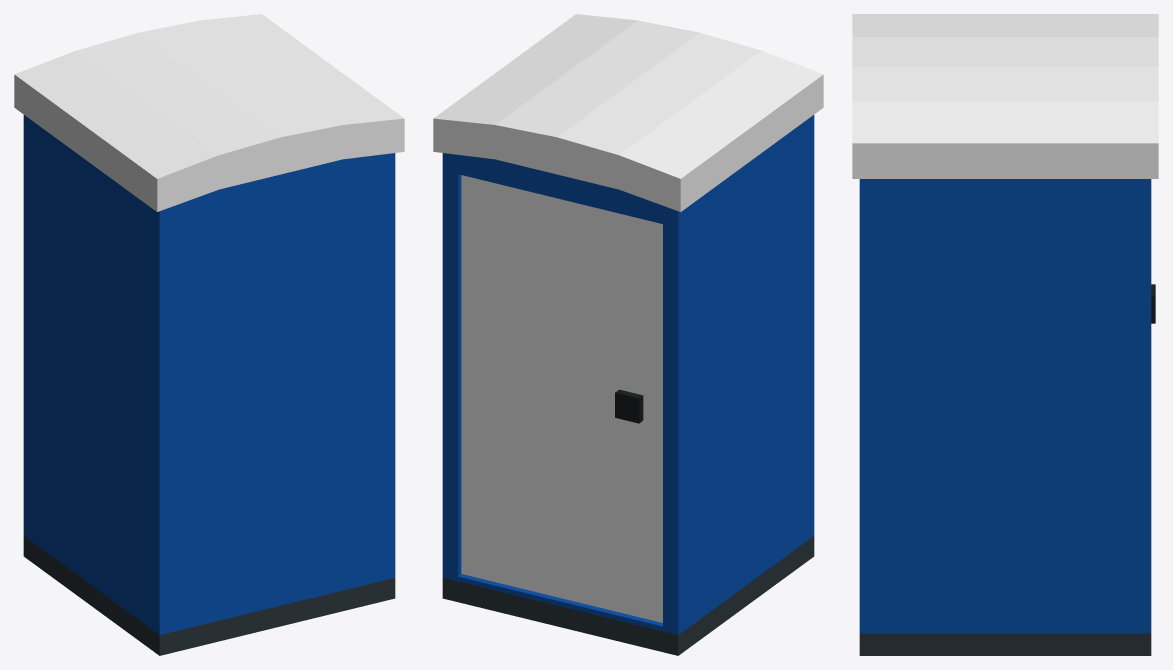
Rendered from toilet.glb.
3 renders of one model, left to right at view 1: azimuth 30°, elevation 25°; view 2: azimuth 150°, elevation 25°; view 3: azimuth 270°, elevation 25°, orthographic. The views are drawn at different scales.
Parts seen in each view (by area): view 1: Dixie; view 2: Dixie; view 3: Dixie.
Boxes of the visible parts, x1,y1,x2,y2 form: Dixie: [14, 14, 404, 655]; Dixie: [433, 14, 823, 655]; Dixie: [852, 14, 1158, 655].
Size of the model in its own units: 1.26 by 2.4 by 1.26.
1 material, 1 textured.
